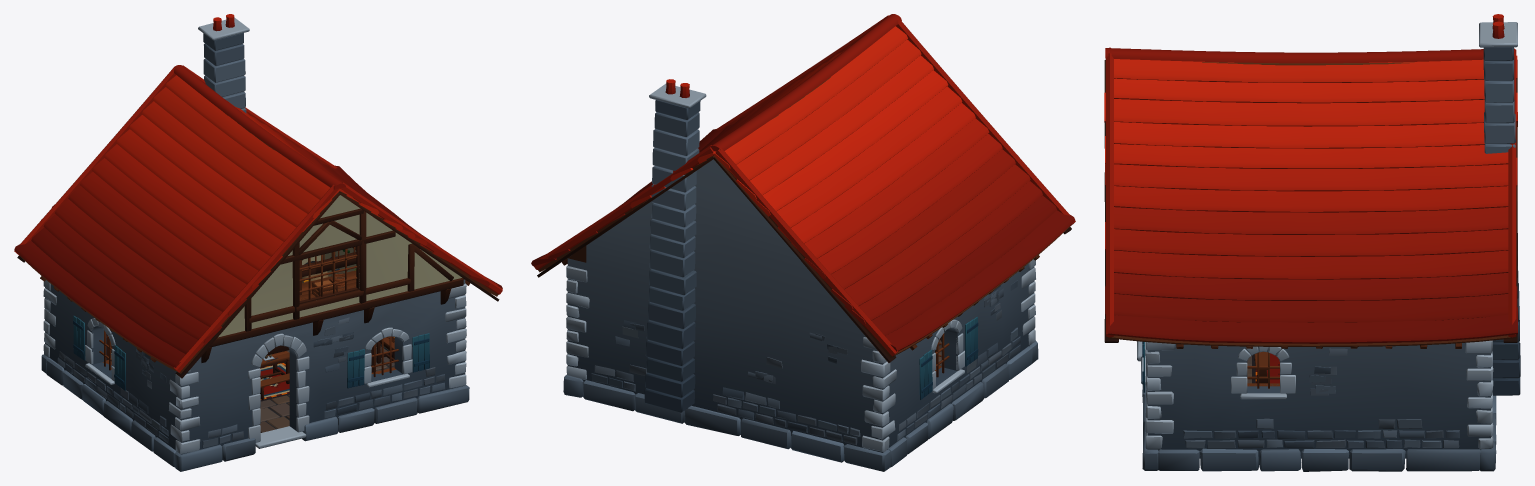
File: Atolye_Statik.fbx
The picture shows the model from 3 angles, left to right: view 1: azimuth 30°, elevation 25°; view 2: azimuth 150°, elevation 25°; view 3: azimuth 270°, elevation 25°; orthographic projection. The views are drawn at different scales.
Visible parts, largest first — view 1: SM_Atolye_Cati, SM_Atolye_Duvar, SM_Atolye_Tas, SM_Atolye_Cephe, SM_Atolye_Baca, SM_Atolye_Pencere, SM_Atolye_Kiris, SM_Atolye_Zemin, SM_Asma_Kat, SM_Kilim_Orta; view 2: SM_Atolye_Cati, SM_Atolye_Duvar, SM_Atolye_Tas, SM_Atolye_Baca, SM_Atolye_Kiris, SM_Atolye_Pencere; view 3: SM_Atolye_Cati, SM_Atolye_Duvar, SM_Atolye_Tas, SM_Atolye_Baca, SM_Atolye_Kiris, SM_Atolye_Pencere.
Part boxes in pixels (left/top/right/bottom): SM_Atolye_Cati: left=14, top=65, right=502, bottom=373; SM_Atolye_Duvar: left=45, top=247, right=465, bottom=454; SM_Atolye_Tas: left=41, top=280, right=469, bottom=471; SM_Atolye_Cephe: left=201, top=195, right=463, bottom=362; SM_Atolye_Baca: left=198, top=14, right=249, bottom=113; SM_Atolye_Pencere: left=73, top=316, right=429, bottom=390; SM_Atolye_Kiris: left=17, top=112, right=499, bottom=378; SM_Atolye_Zemin: left=111, top=343, right=394, bottom=448; SM_Asma_Kat: left=299, top=247, right=375, bottom=372; SM_Kilim_Orta: left=260, top=362, right=289, bottom=401; SM_Atolye_Cati: left=531, top=14, right=1075, bottom=357; SM_Atolye_Duvar: left=567, top=159, right=1034, bottom=452; SM_Atolye_Tas: left=563, top=259, right=1038, bottom=471; SM_Atolye_Baca: left=644, top=79, right=706, bottom=412; SM_Atolye_Kiris: left=537, top=77, right=1071, bottom=362; SM_Atolye_Pencere: left=919, top=317, right=978, bottom=399; SM_Atolye_Cati: left=1104, top=47, right=1517, bottom=346; SM_Atolye_Duvar: left=1147, top=343, right=1490, bottom=458; SM_Atolye_Tas: left=1141, top=340, right=1496, bottom=471; SM_Atolye_Baca: left=1479, top=14, right=1520, bottom=395; SM_Atolye_Kiris: left=1104, top=59, right=1517, bottom=348; SM_Atolye_Pencere: left=1142, top=341, right=1279, bottom=392.
Size of the model in its own units: 10.3 by 9.23 by 8.96.
